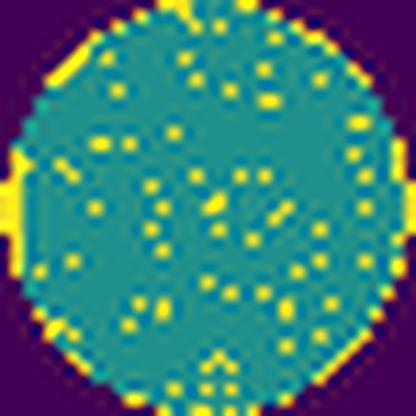Edge-Loc: (0, 138, 37, 280)
